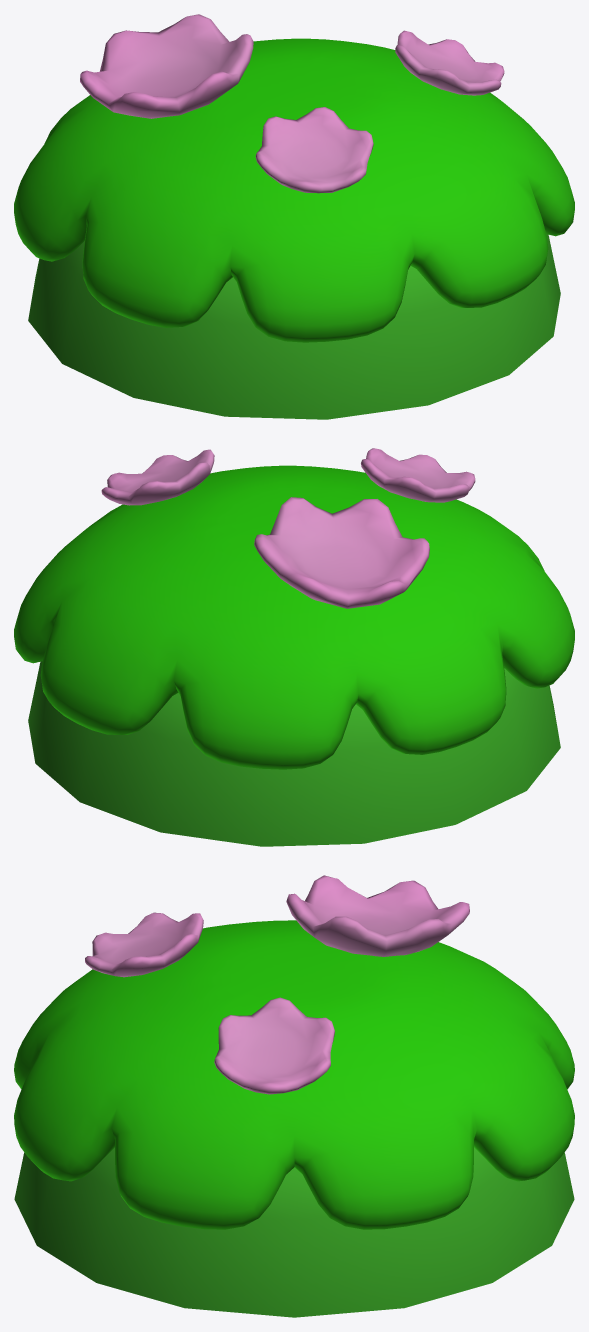
File: Bush3.fbx
3 views of the same model, one above another, from view 1: azimuth 30°, elevation 25°; view 2: azimuth 150°, elevation 25°; view 3: azimuth 270°, elevation 25° (orthographic). The views are drawn at different scales.
Visible parts, largest first — view 1: Cube; view 2: Cube; view 3: Cube.
Boxes of the visible parts, x1,y1,x2,y2 form: Cube: (14, 14, 574, 419); Cube: (14, 448, 574, 846); Cube: (14, 875, 574, 1317).
Size of the model in its own units: 120 by 64.07 by 120.
